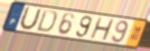6: (57, 12, 76, 36)
9: (110, 19, 129, 43), (75, 15, 93, 38)
D: (35, 9, 58, 34)
H: (88, 17, 116, 42)
U: (17, 6, 43, 32)
